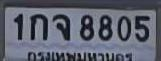0: (117, 15, 130, 40)
1: (13, 13, 22, 39)
5: (134, 15, 149, 41)
8: (79, 14, 93, 40), (98, 14, 111, 40)
A01: (29, 13, 47, 39)
A08: (52, 13, 69, 40)
BKK: (27, 48, 134, 61)
